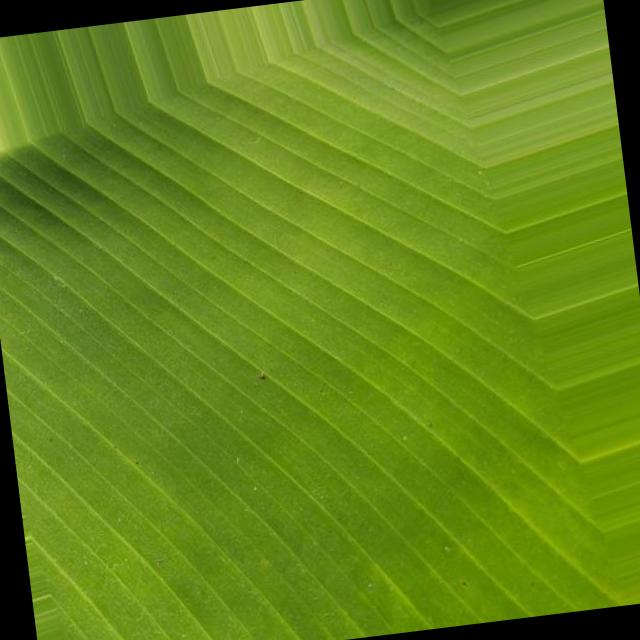Banana_Healthy: (64, 130, 472, 618)
